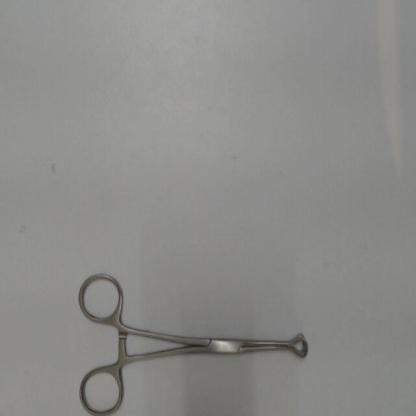Babcock Tissue Forceps: (74, 267, 311, 414)
